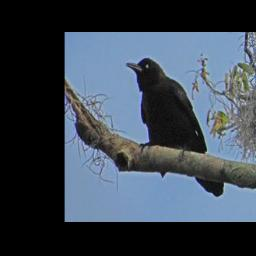Crow: (126, 58, 225, 197)
